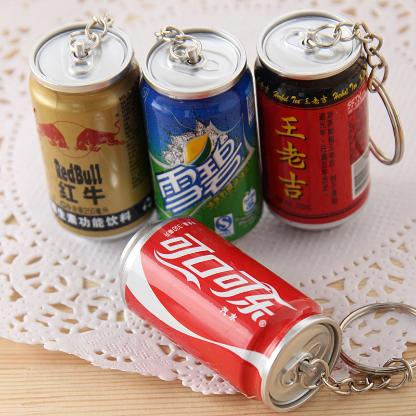Can: (120, 216, 342, 412), (29, 15, 154, 240), (141, 26, 262, 240), (255, 10, 370, 229)
